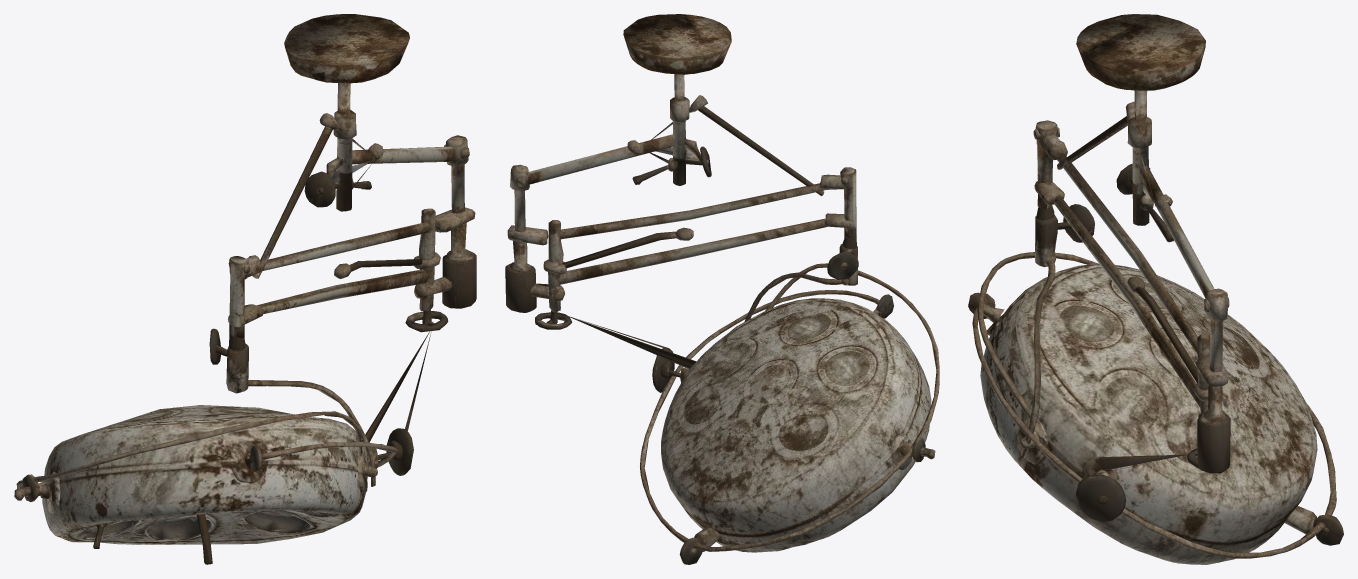
Rendered from surg_lamp.glb.
3 renders of one model, left to right at view 1: azimuth 30°, elevation 25°; view 2: azimuth 150°, elevation 25°; view 3: azimuth 270°, elevation 25°, orthographic. The views are drawn at different scales.
Size of the model in its own units: 0.9631 by 1 by 0.6128.
Materials: 1 (1 with a texture image).
